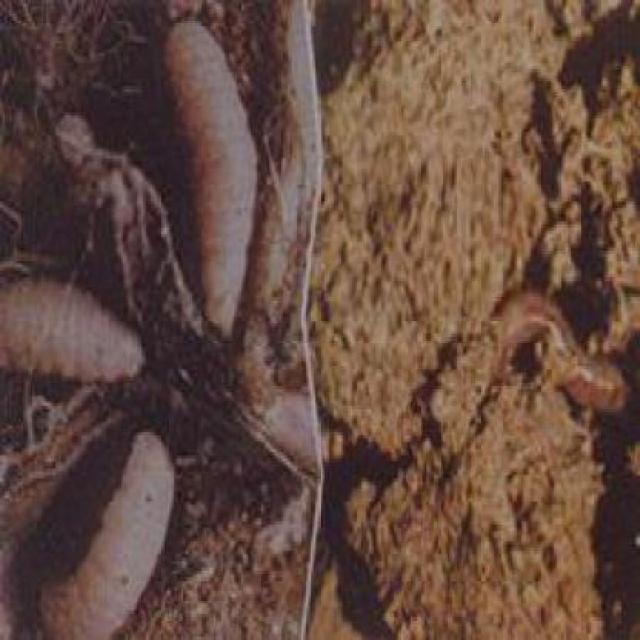whorl-maggot: (156, 12, 267, 338), (33, 421, 181, 635), (6, 269, 149, 383)
